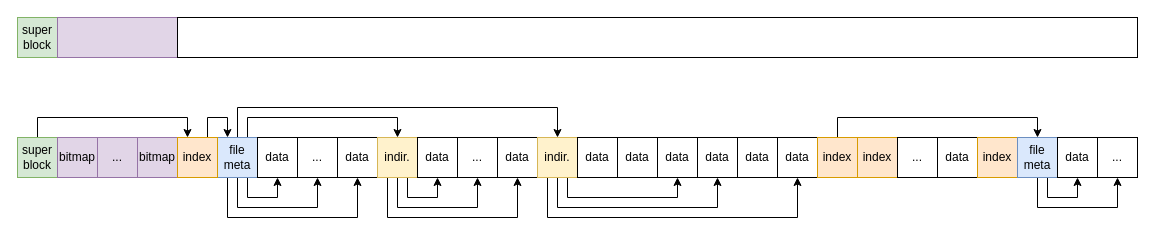
Some shapes in this 1155 by 243 pixel diagram are drawn without their labels. The centre of each missing label's shape, as x and y in pixels:
bitmap blocks: the point at 117,37
data blocks, file meta blocks, indirect file blocks, indicies: the point at 657,37
